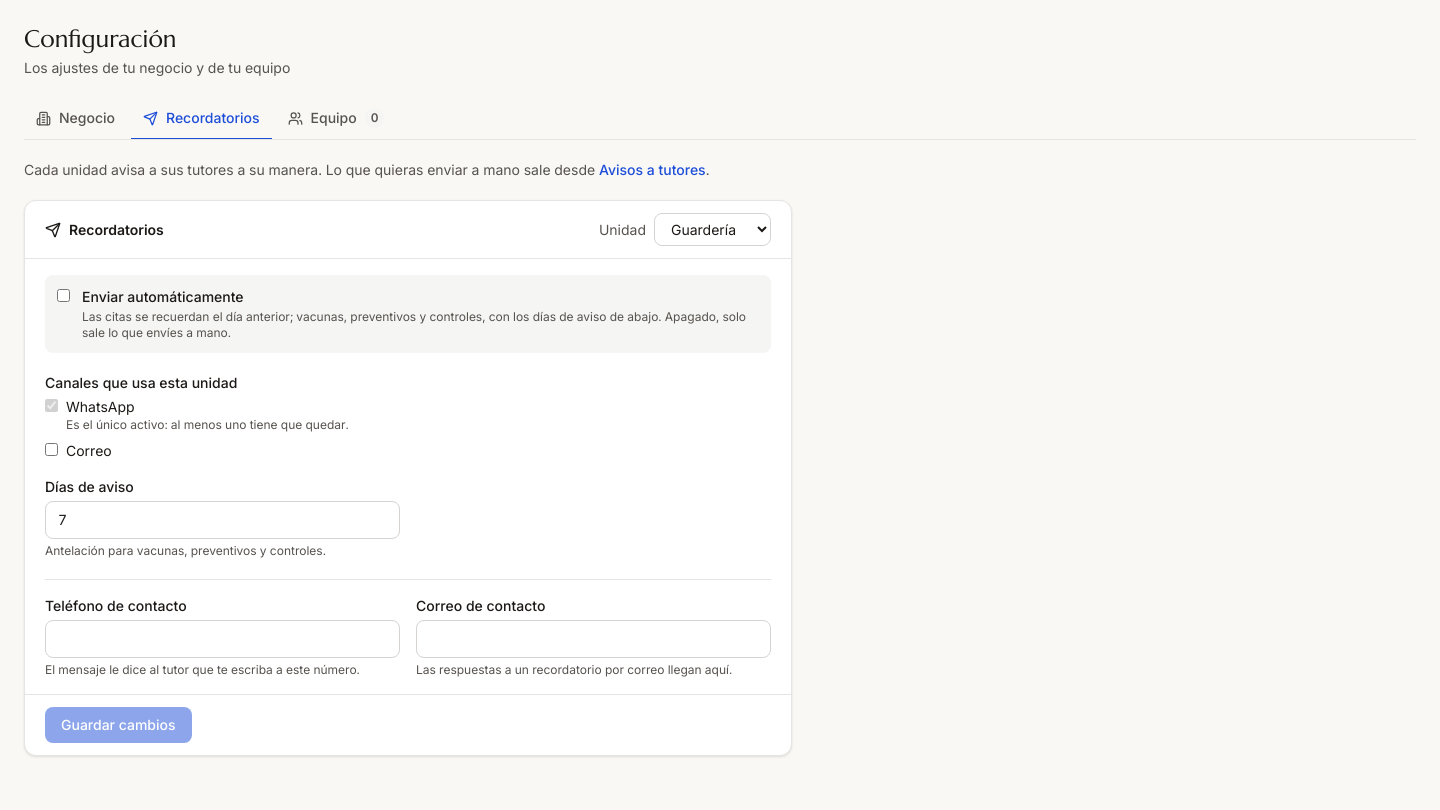
Test case: reminders with several units › shows one unit at a time and keeps an unsaved edit while another is open
expect the form named "Recordatorios de Guardería" is shown: met, box [25, 259, 791, 755]
Replace the text in the number field labelled "Días de aviso" with "3" at (222, 520), box [45, 501, 400, 539]
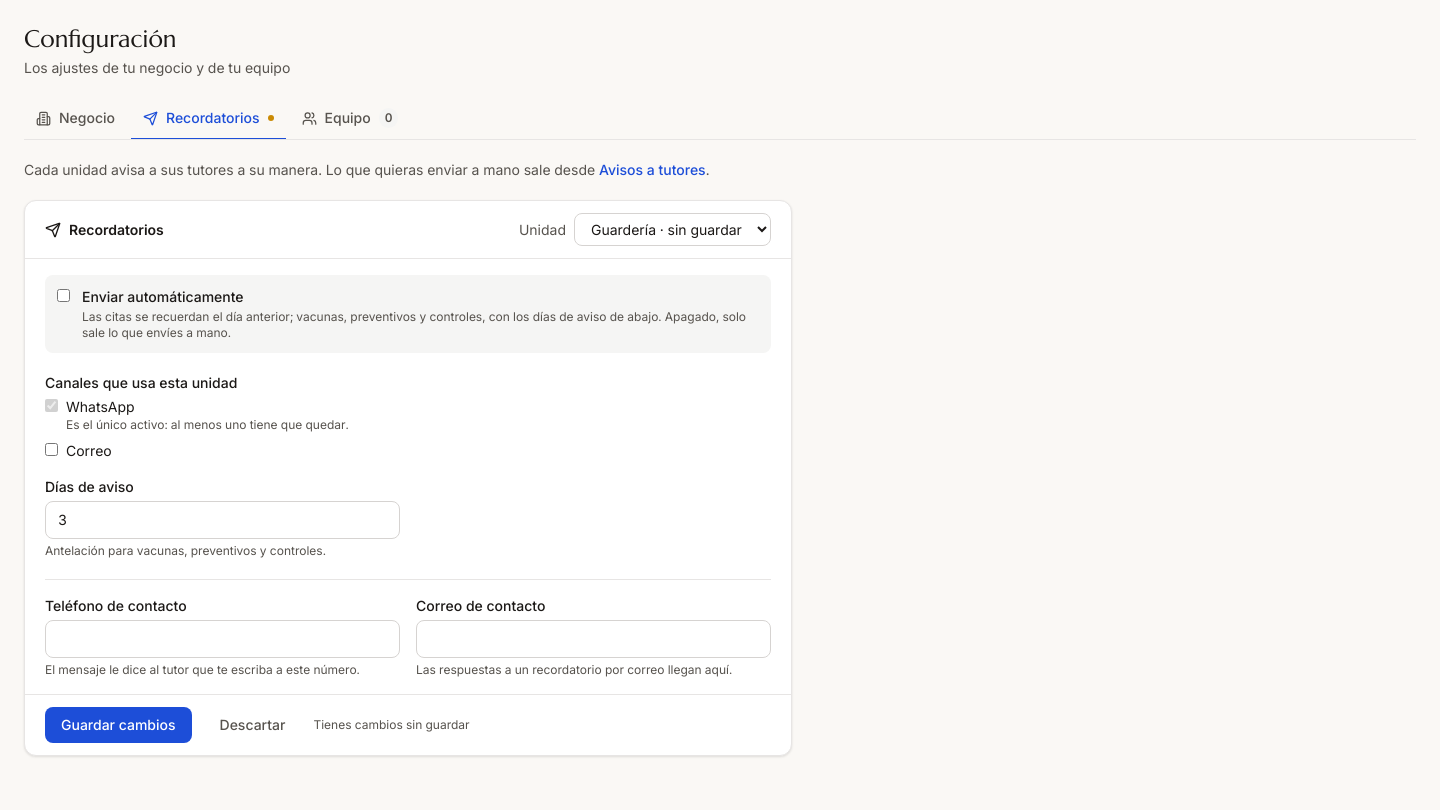
Select "Peluquería" in the dropdown labelled "Unidad" at (672, 230), box [574, 213, 771, 246]
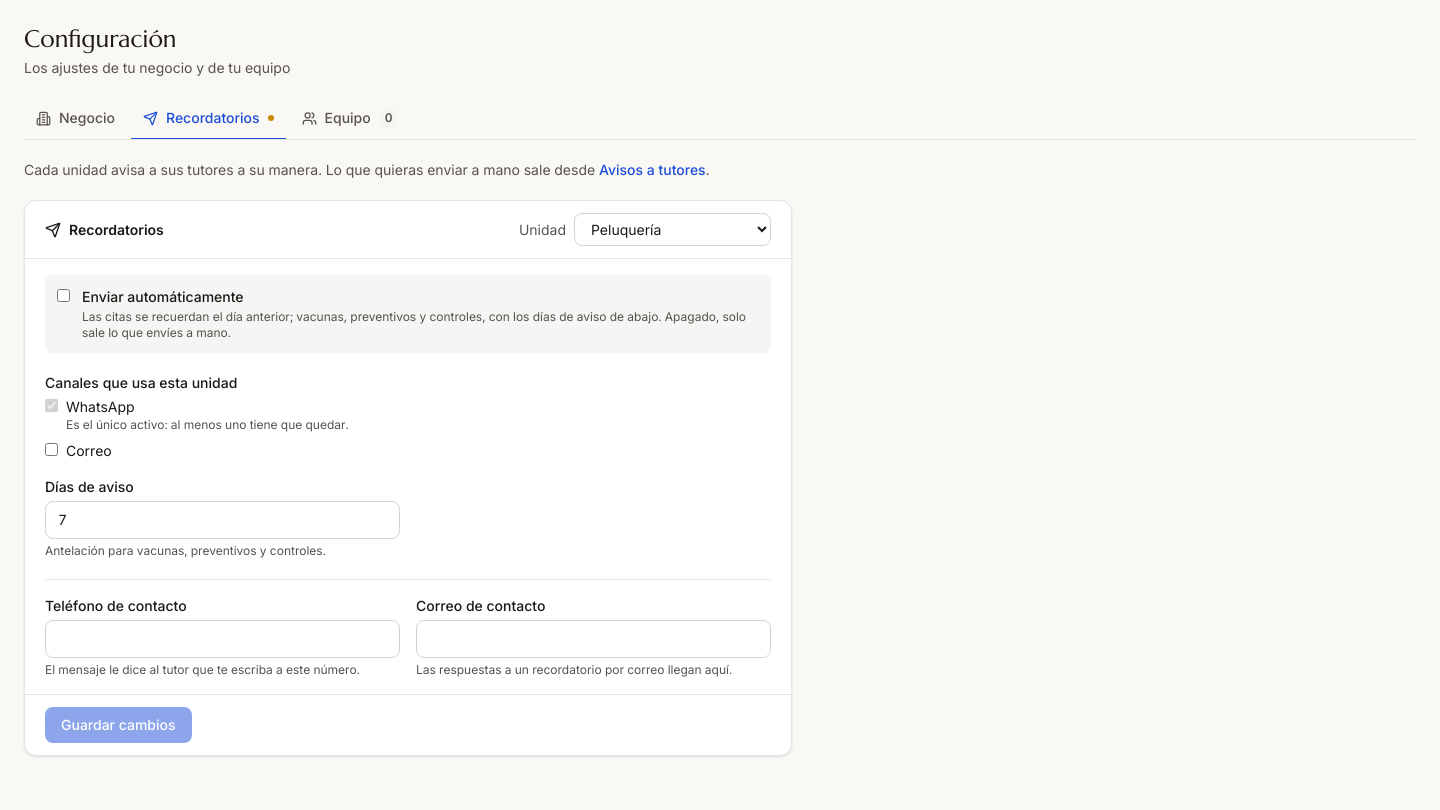
expect the form named "Recordatorios de Peluquería" is shown: met, box [25, 259, 791, 755]
expect the number field labelled "Días de aviso" holds "7": met, box [45, 501, 400, 539]
Select "Guardería · sin guardar" in the dropdown labelled "Unidad" at (672, 230), box [574, 213, 771, 246]
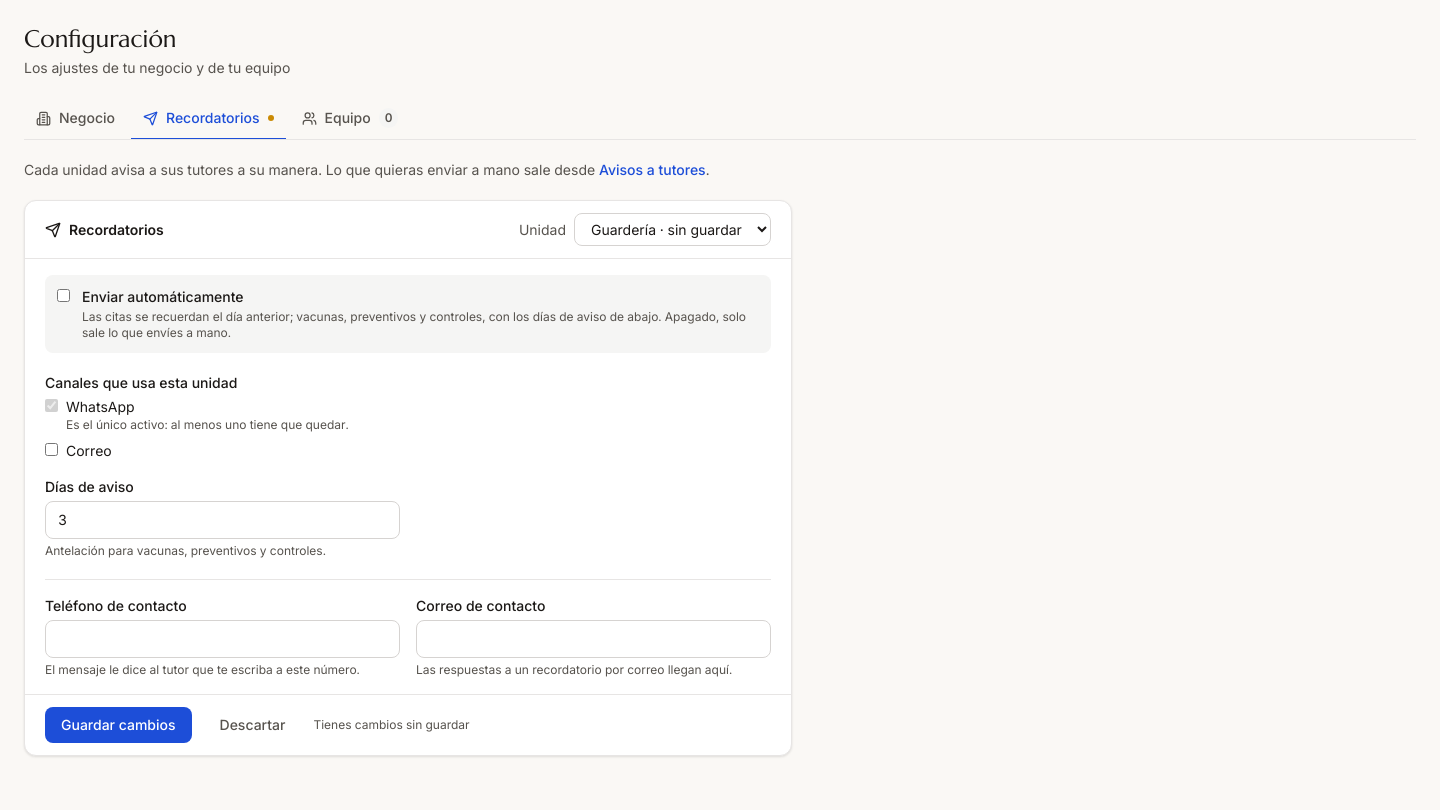
expect the number field labelled "Días de aviso" holds "3": met, box [45, 501, 400, 539]
